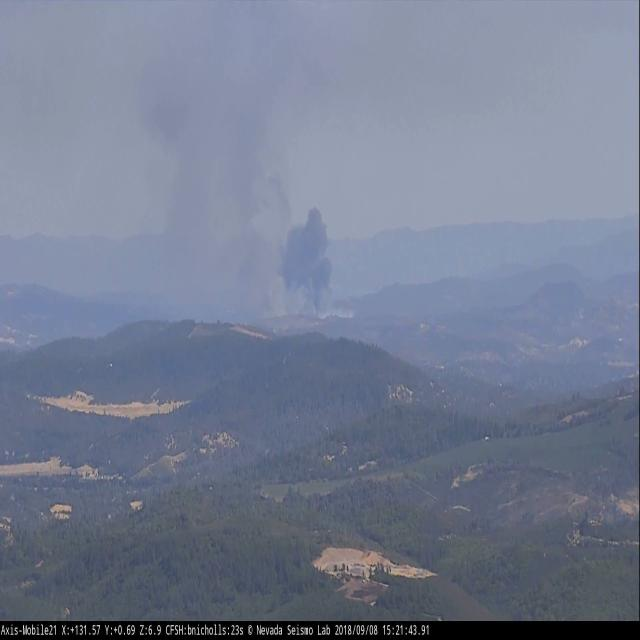smoke: (139, 0, 351, 325)
